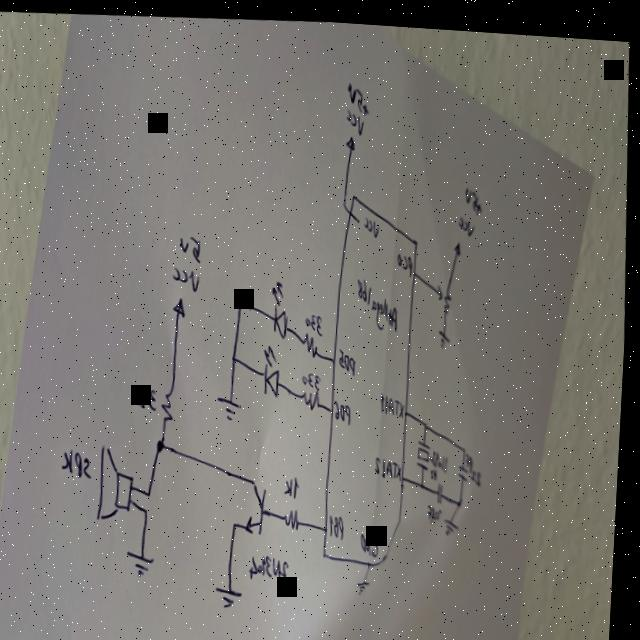capacitor: (462, 456, 474, 475), (440, 474, 450, 496)
diode: (272, 274, 294, 338), (264, 338, 286, 396)
ground: (131, 543, 162, 576), (218, 578, 251, 607), (219, 389, 247, 418), (448, 507, 465, 531), (440, 320, 455, 343), (361, 571, 378, 590)
junction: (160, 433, 172, 450), (237, 514, 243, 527), (147, 503, 154, 514), (242, 294, 248, 306), (234, 349, 241, 359), (427, 414, 433, 424), (462, 491, 468, 501), (425, 473, 430, 484), (152, 486, 157, 496), (466, 437, 471, 447), (344, 194, 349, 204)
resistor: (164, 382, 180, 423), (305, 326, 324, 356), (439, 274, 456, 307), (287, 500, 307, 528), (304, 387, 324, 407)
source: (175, 293, 190, 316), (346, 128, 358, 146), (456, 234, 463, 250)
text: (357, 269, 403, 331), (254, 547, 296, 578), (65, 445, 97, 478), (346, 76, 372, 111), (174, 260, 204, 290), (377, 448, 408, 477), (180, 229, 206, 262), (464, 176, 486, 214), (383, 385, 409, 414), (340, 341, 362, 371), (137, 384, 162, 410), (469, 444, 487, 480), (364, 523, 387, 551), (338, 391, 358, 420), (346, 103, 367, 130), (333, 507, 352, 536), (459, 205, 479, 231), (288, 468, 306, 496), (397, 243, 416, 269), (434, 442, 453, 466), (308, 307, 328, 329), (365, 210, 383, 233), (431, 496, 448, 518), (306, 365, 325, 384), (434, 460, 443, 475)
transistor: (245, 473, 276, 533)
